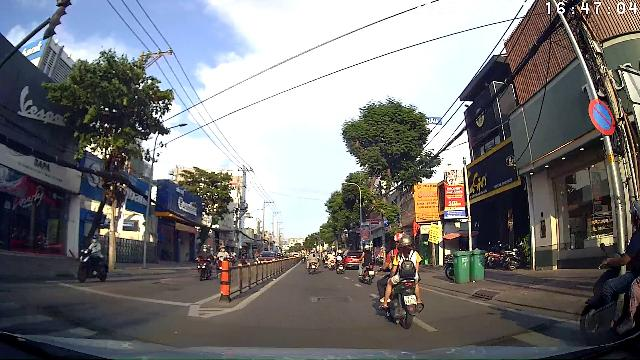131a-cam-do-xe: (588, 98, 616, 136)
